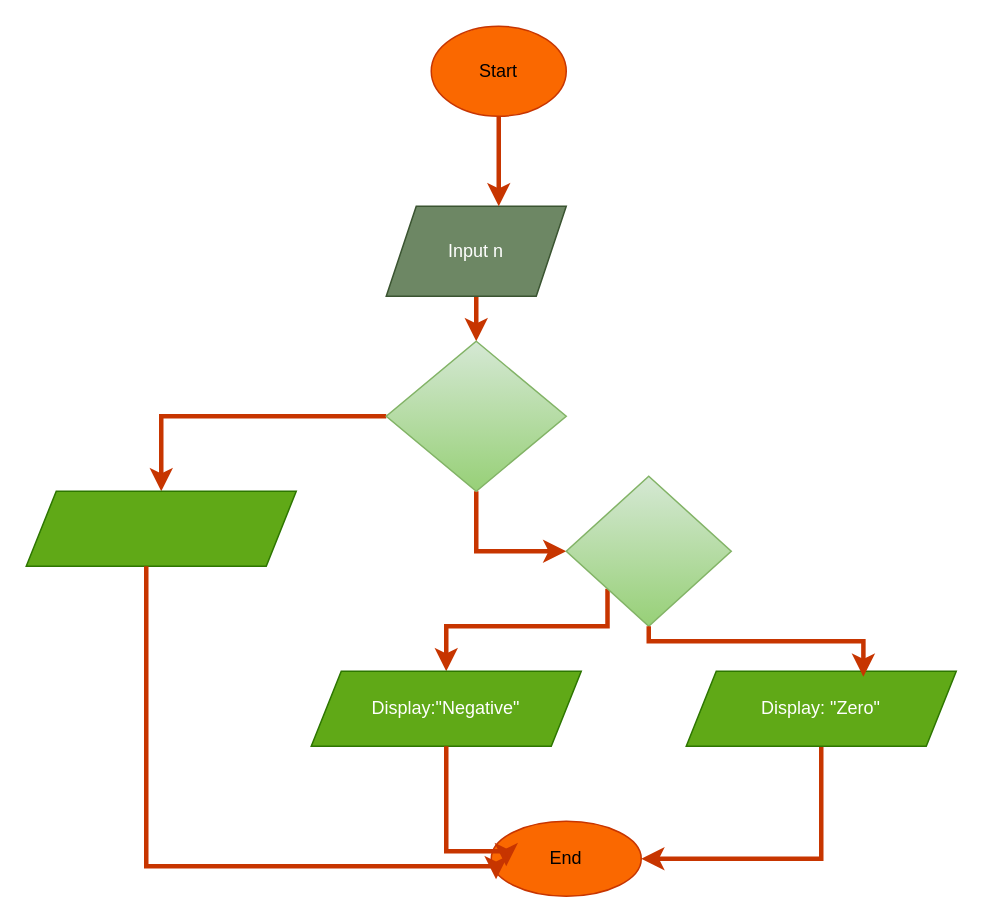
The diagram is 983 pixels wide and 923 high, and some of its shapes have lost their labels. The centre of each missing label's shape, as x and y in pixels:
Display: "Positive": (160,528)
n < 0?: (648,550)
n >0?: (475,415)
